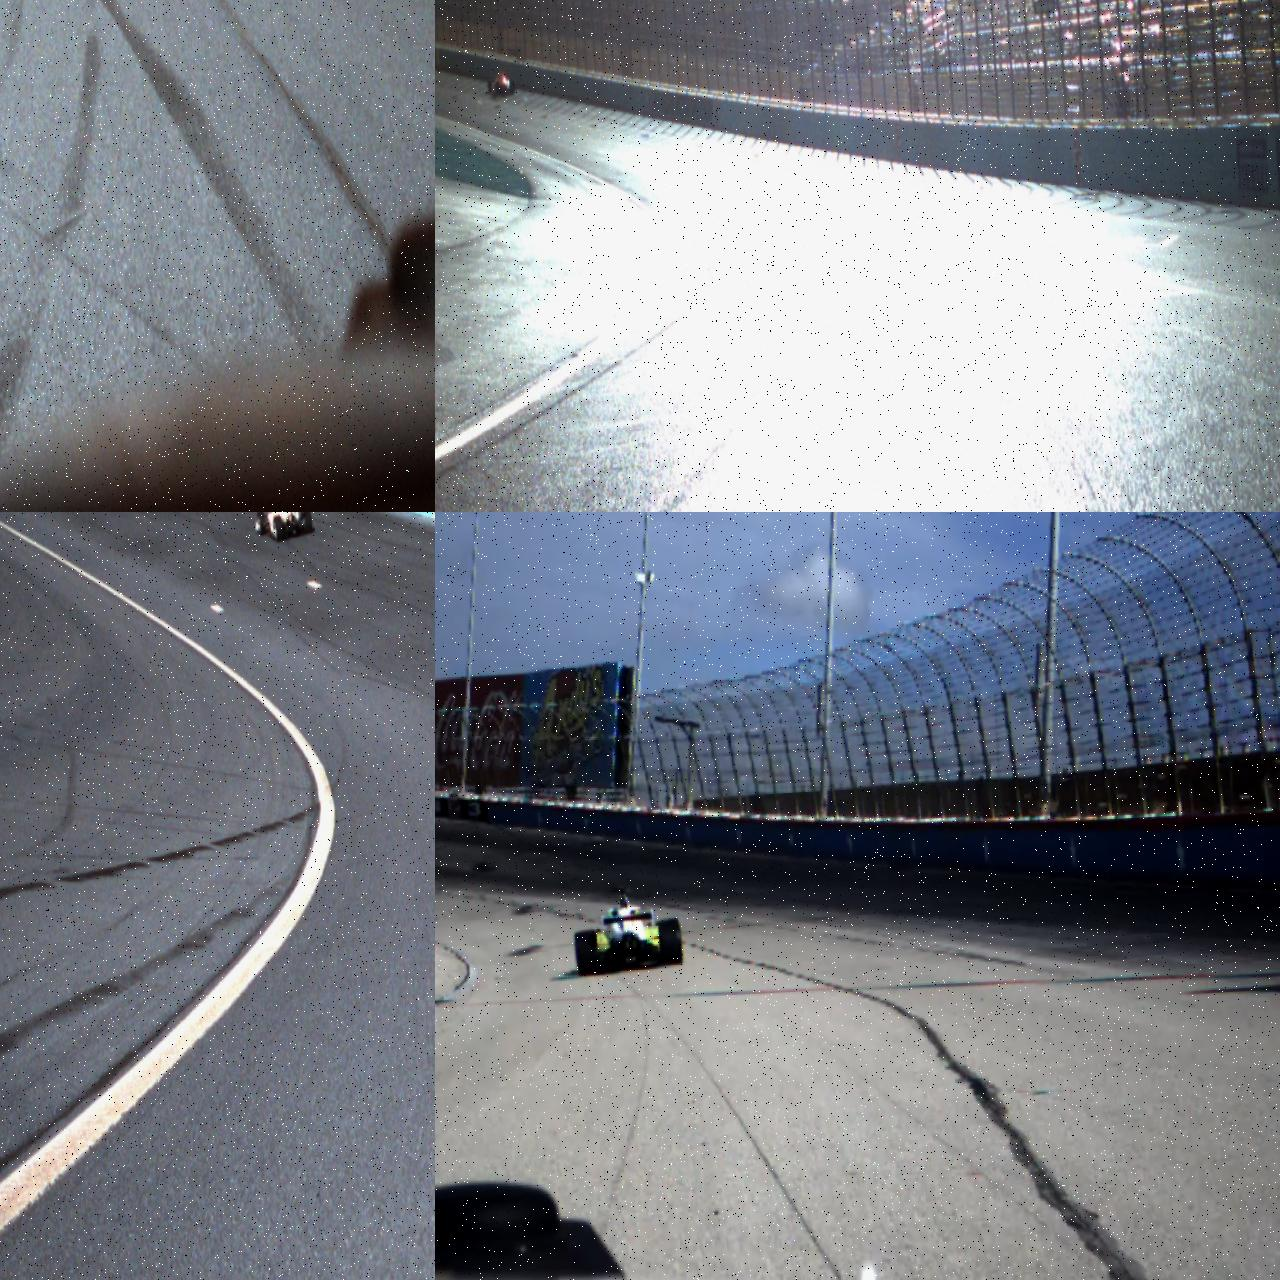AV: (572, 883, 682, 975), (252, 512, 313, 543), (486, 67, 515, 95)
Wheel: (573, 930, 599, 975), (658, 919, 682, 966), (272, 515, 282, 542), (256, 512, 265, 535), (302, 512, 311, 532), (510, 79, 515, 94), (495, 81, 499, 95), (486, 80, 491, 91)
